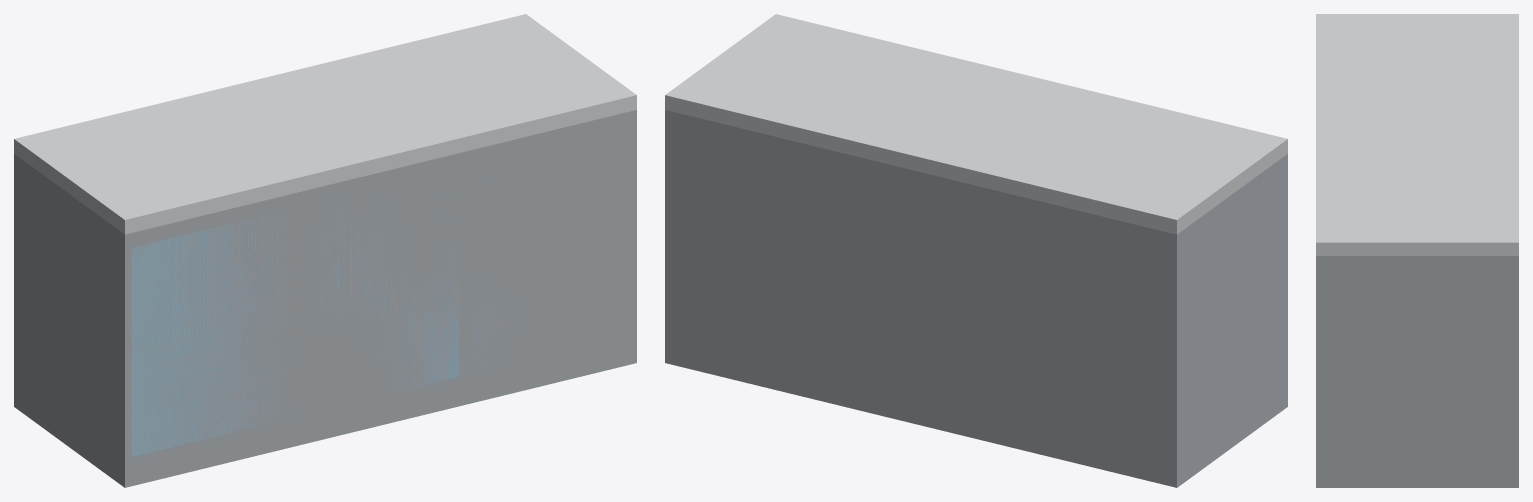
File: cooler_slide_door_drink_3door_72.glb
The picture shows the model from 3 angles, left to right: view 1: azimuth 30°, elevation 25°; view 2: azimuth 150°, elevation 25°; view 3: azimuth 270°, elevation 25°; orthographic projection. The views are drawn at different scales.
Size of the model in its own units: 1.83 by 0.9144 by 0.6858.
